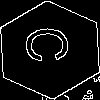C: (25, 25, 79, 64)
